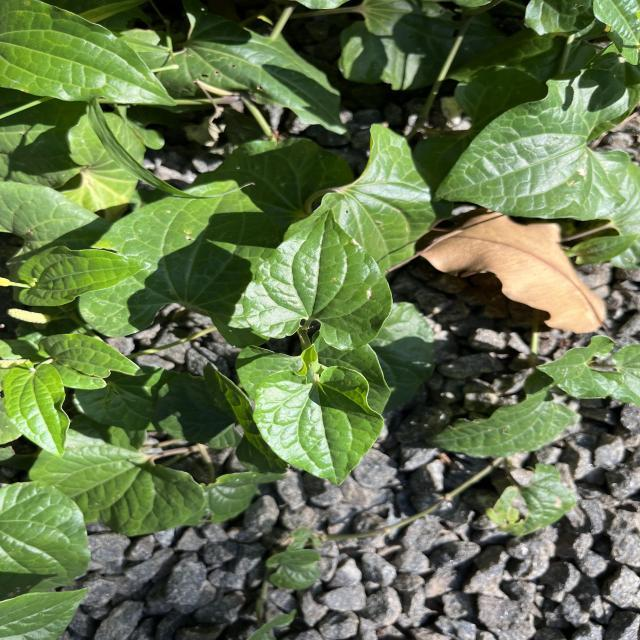Piper longum: (428, 65, 634, 224), (241, 207, 395, 352), (250, 364, 388, 487)
